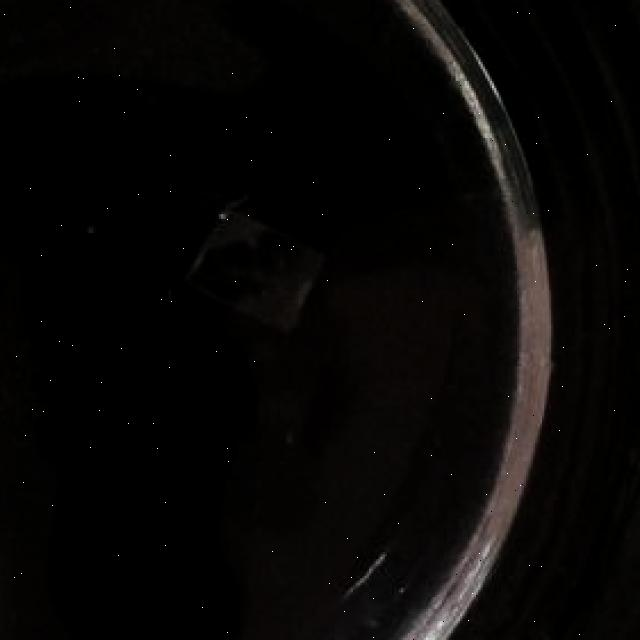Microplastic: (178, 202, 330, 336)
